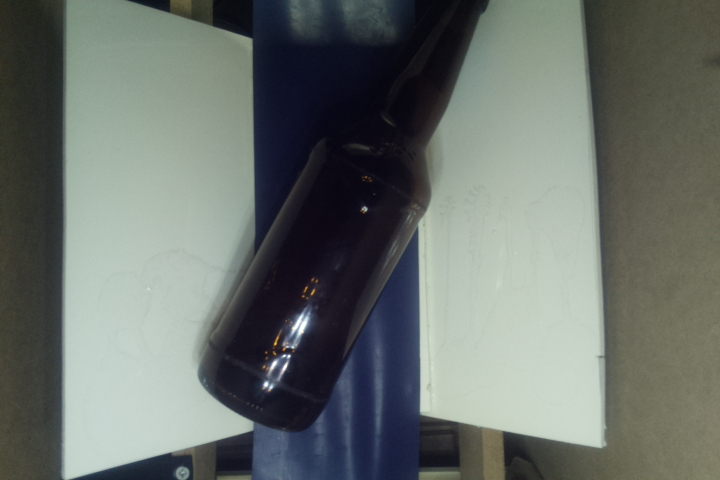makju: (190, 1, 491, 433)
